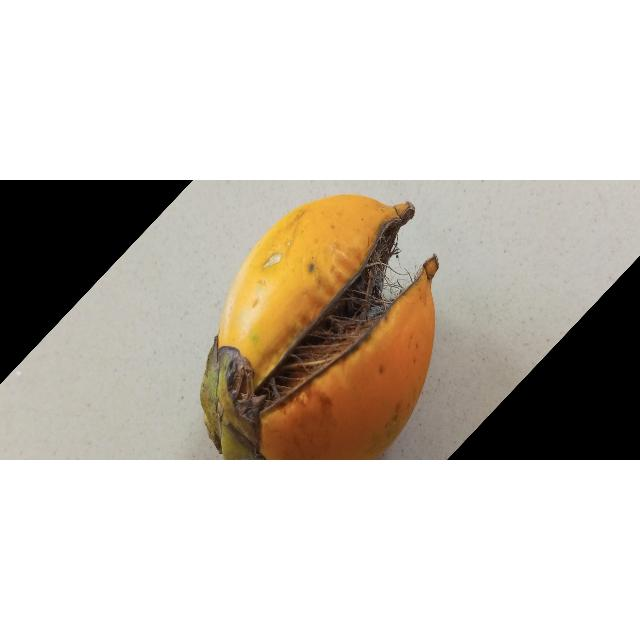damaged: (201, 195, 439, 461)
